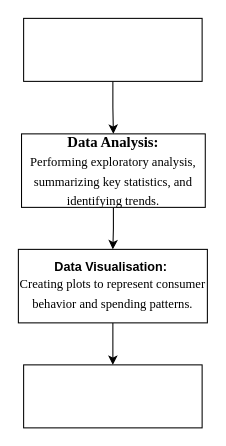
This 226x446 diagram has some shape labels left out. Here are the shapes that lost their labels. From the top down, the centre of each, then its label:
pixel 112 49: Data Collection: Importing and cleaning the dataset (CSV file)
pixel 112 396: Conclusion: Deriving actionable insights based on the analysis.
